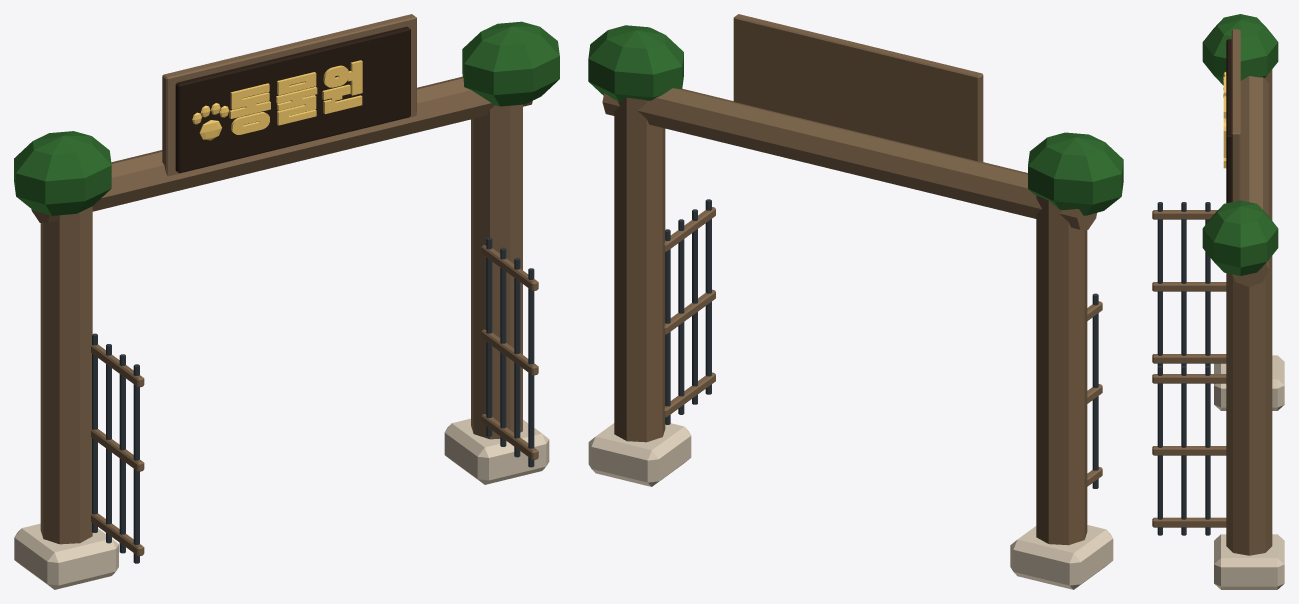
Rendered from MD_Zoo_Entrance.fbx.
3 views of the same model, side by side, from view 1: azimuth 30°, elevation 25°; view 2: azimuth 150°, elevation 25°; view 3: azimuth 270°, elevation 25° (orthographic). The views are drawn at different scales.
Visible parts, largest first — view 1: MD_Zoo_Entrance; view 2: MD_Zoo_Entrance; view 3: MD_Zoo_Entrance.
Part boxes in pixels (x1,y1,x2,y2): MD_Zoo_Entrance: (14, 14, 559, 589); MD_Zoo_Entrance: (588, 14, 1123, 589); MD_Zoo_Entrance: (1152, 14, 1284, 589).
Bounding box in the file's own units: 605 × 510 × 150.
